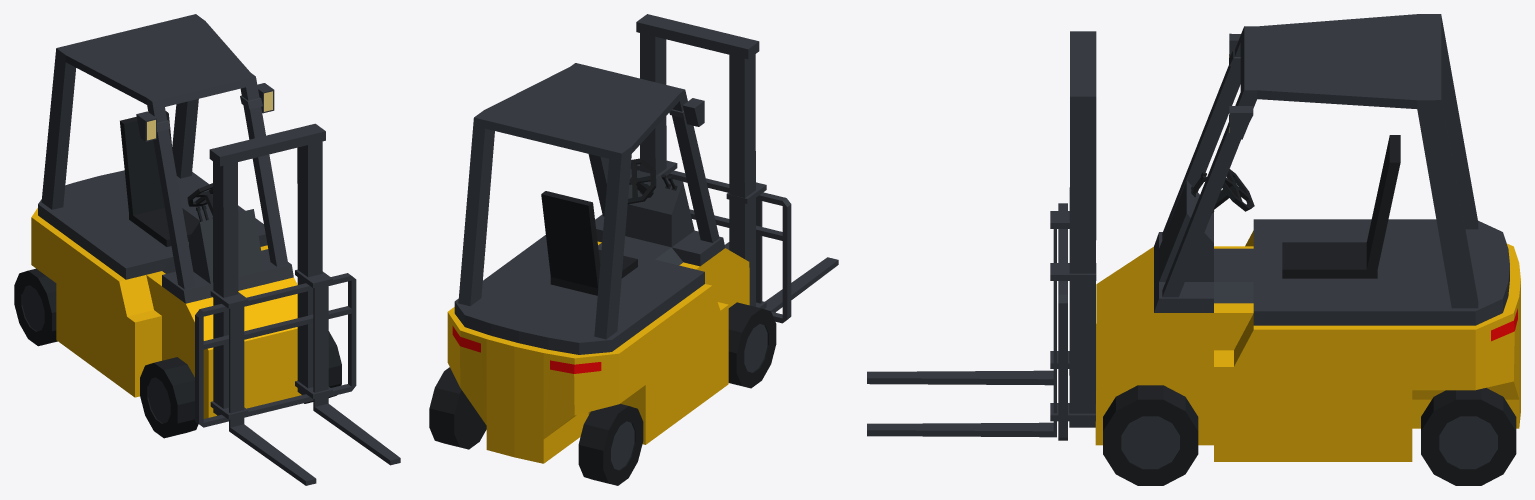
The model's file is Forklift.fbx.
The picture shows the model from 3 angles, left to right: view 1: azimuth 30°, elevation 25°; view 2: azimuth 150°, elevation 25°; view 3: azimuth 270°, elevation 25°; orthographic projection. The views are drawn at different scales.
Visible parts, largest first — view 1: Forklift_Body, Forklift_LiftArm, Forklift_LiftFrame, Forklift_Seat, Forklift_Wheel_FR, Forklift_Wheel_RR, Forklift_Wheel_FL, Forklift_SteeringWheel; view 2: Forklift_Body, Forklift_LiftFrame, Forklift_Seat, Forklift_LiftArm, Forklift_Wheel_RR, Forklift_Wheel_FR, Forklift_Wheel_RL, Forklift_SteeringWheel; view 3: Forklift_Body, Forklift_LiftFrame, Forklift_LiftArm, Forklift_Wheel_FL, Forklift_Wheel_RL, Forklift_Seat, Forklift_SteeringWheel.
Part boxes in pixels (x1,y1,x2,y2): Forklift_Body: [31, 14, 301, 418]; Forklift_LiftArm: [195, 269, 400, 485]; Forklift_LiftFrame: [209, 123, 325, 415]; Forklift_Seat: [120, 111, 199, 246]; Forklift_Wheel_FR: [140, 357, 198, 438]; Forklift_Wheel_RR: [14, 268, 57, 346]; Forklift_Wheel_FL: [304, 331, 341, 403]; Forklift_SteeringWheel: [187, 183, 212, 218]; Forklift_Body: [447, 63, 749, 463]; Forklift_LiftFrame: [636, 14, 759, 306]; Forklift_Seat: [541, 191, 637, 295]; Forklift_LiftArm: [630, 160, 838, 323]; Forklift_Wheel_RR: [578, 404, 643, 485]; Forklift_Wheel_FR: [728, 302, 776, 388]; Forklift_Wheel_RL: [429, 367, 486, 449]; Forklift_SteeringWheel: [627, 158, 656, 204]; Forklift_Body: [1095, 14, 1520, 461]; Forklift_LiftFrame: [1069, 31, 1096, 427]; Forklift_LiftArm: [867, 203, 1096, 440]; Forklift_Wheel_FL: [1103, 385, 1198, 485]; Forklift_Wheel_RL: [1421, 388, 1516, 485]; Forklift_Seat: [1282, 135, 1400, 278]; Forklift_SteeringWheel: [1212, 169, 1254, 212].
Size of the model in its own units: 98.24 by 171 by 268.
